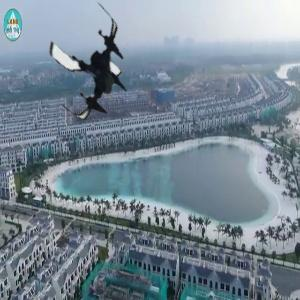drone: (35, 9, 145, 119)
